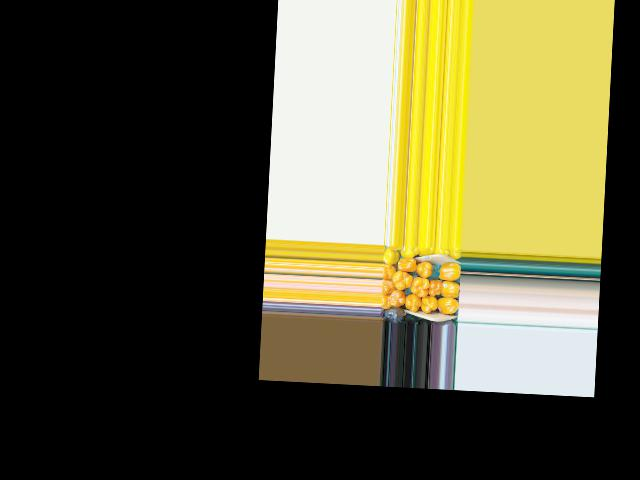bell_pepper: (399, 247, 421, 258)
